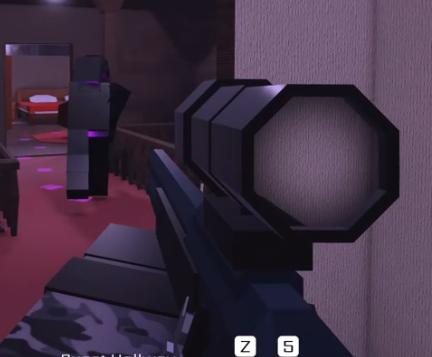enemy: (54, 54, 133, 201)
